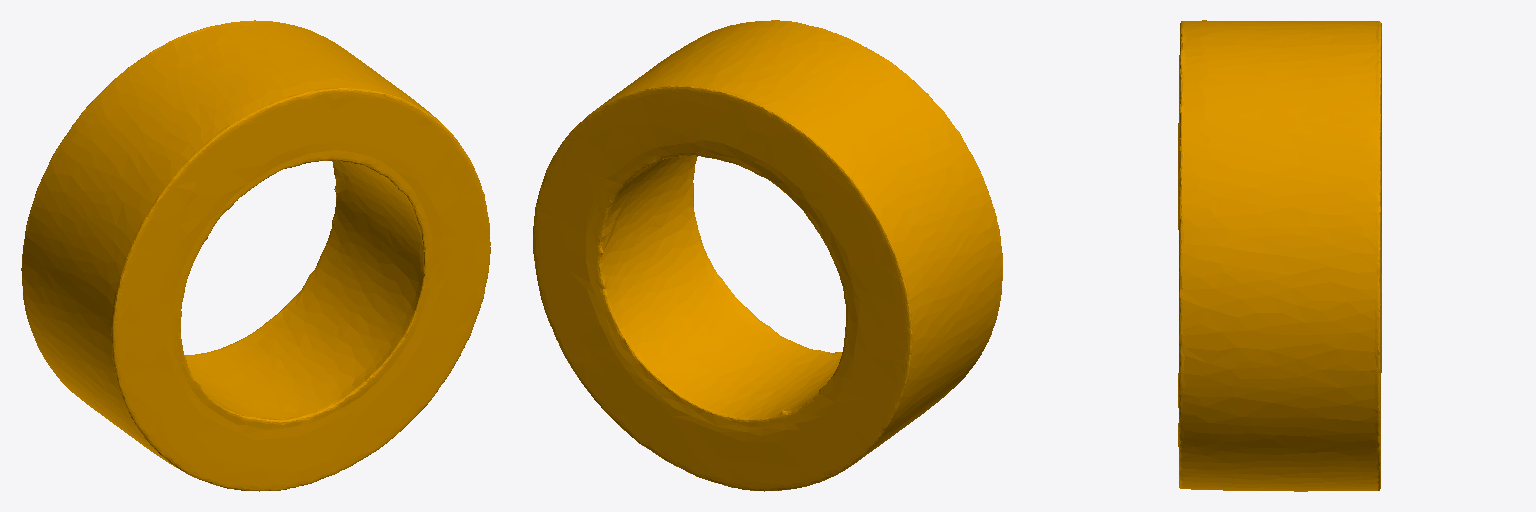
The robot description file, URDF, robot "donut":
<?xml version="1.0"?>
<robot name="donut">

  <link name="base_link">
    <visual>
      <geometry>
        <mesh filename="package://tape/tape.stl" scale="2 2 2"/>
      </geometry>
    </visual>
    <collision>
      <geometry>
        <mesh filename="package://tape/tape_vhacd.obj" scale="2 2 2" />
      </geometry>
    </collision>
  </link>

</robot>

--- What the picture shows (computed from the rendered views, not written in the file) ---
Views: 3 orthographic renders of the robot side by side, from view 1: azimuth 30°, elevation 25°; view 2: azimuth 150°, elevation 25°; view 3: azimuth 270°, elevation 25°.
Robot: donut — 1 links, 0 joints (none); root link base_link; default pose: every joint at zero.
Visible links, largest first — view 1: base_link; view 2: base_link; view 3: base_link.
Boxes of the visible links, x1,y1,x2,y2 form: base_link: (21,20,490,491); base_link: (533,20,1002,491); base_link: (1178,20,1381,491).
Bounding box of the posed robot: 0.2364 × 0.1011 × 0.2345 m (x, y, z).
Meshes: 1 distinct files referenced, 1 mesh visuals loaded (1 binary STL).